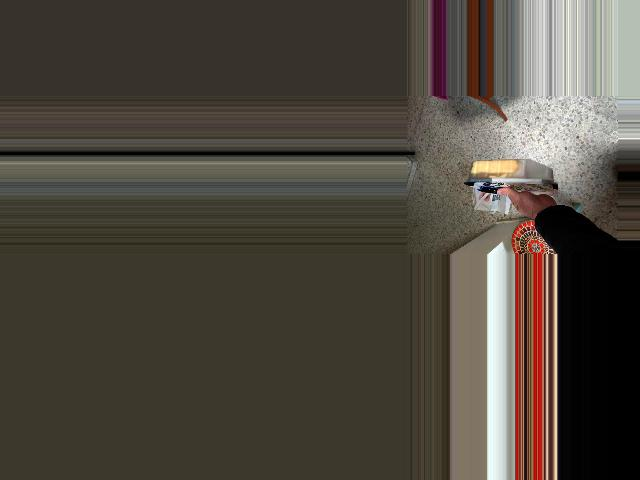cheese: (465, 151, 563, 245)
